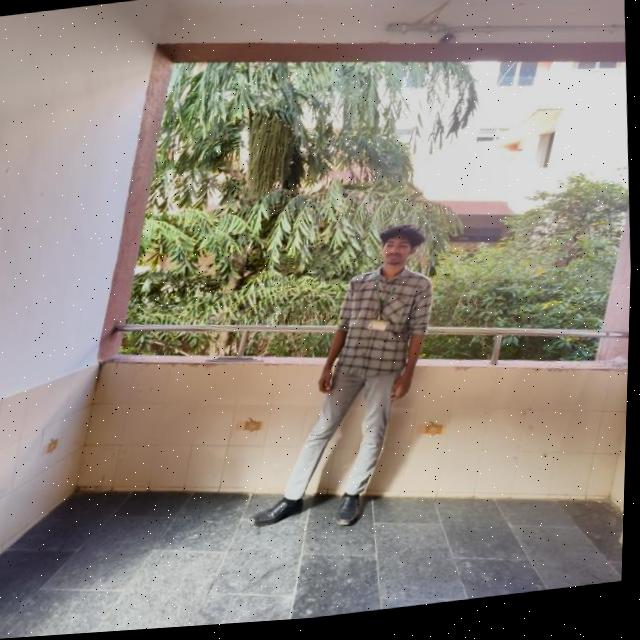id_card: (369, 276, 395, 340)
